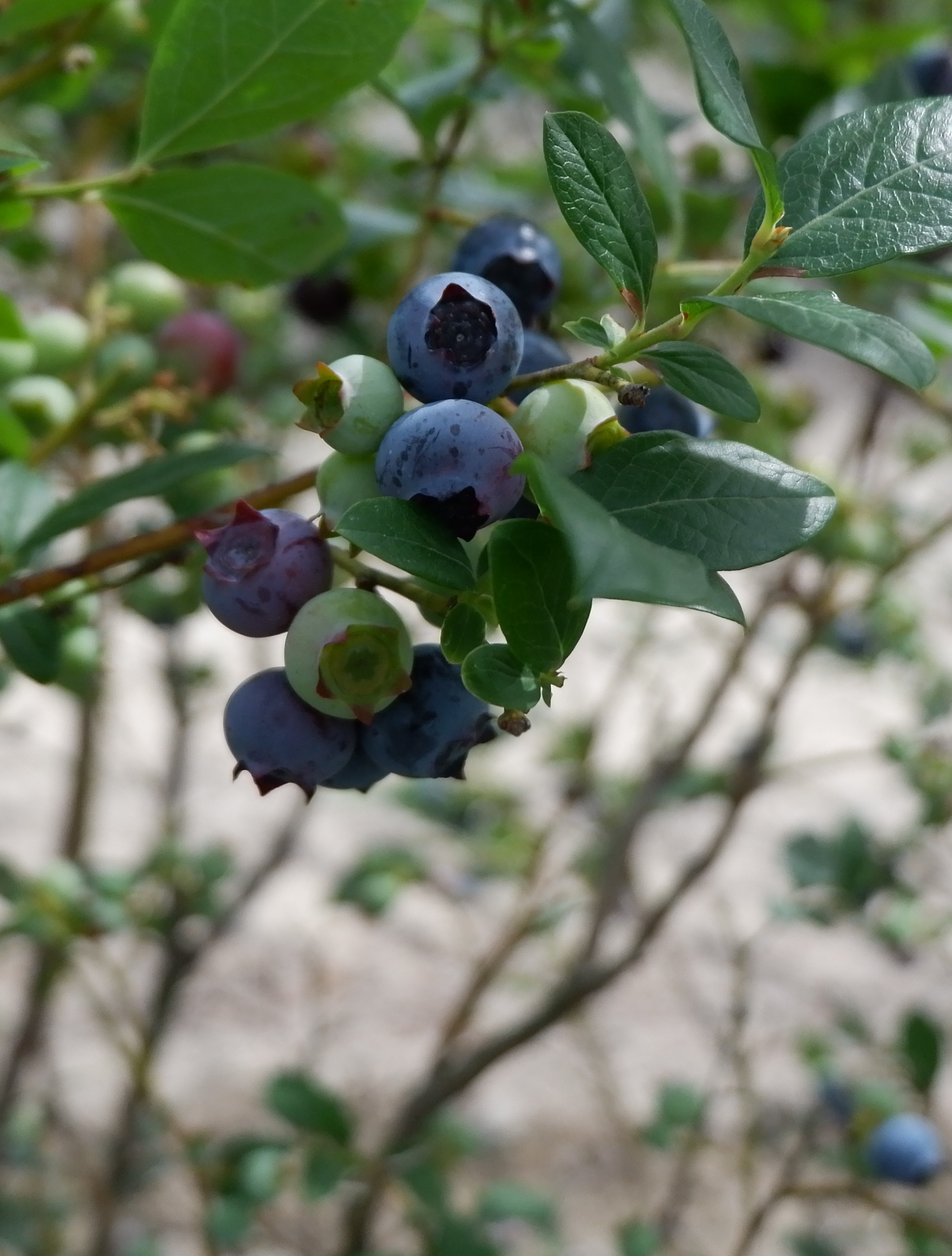Immature: (286, 590, 410, 716), (301, 354, 401, 450), (518, 377, 615, 470), (317, 455, 377, 522)
Mature: (378, 401, 524, 535), (363, 644, 494, 779), (200, 508, 335, 634), (390, 272, 523, 396), (224, 669, 356, 792), (452, 215, 561, 322), (614, 378, 715, 440), (513, 329, 575, 402), (327, 745, 387, 791)
